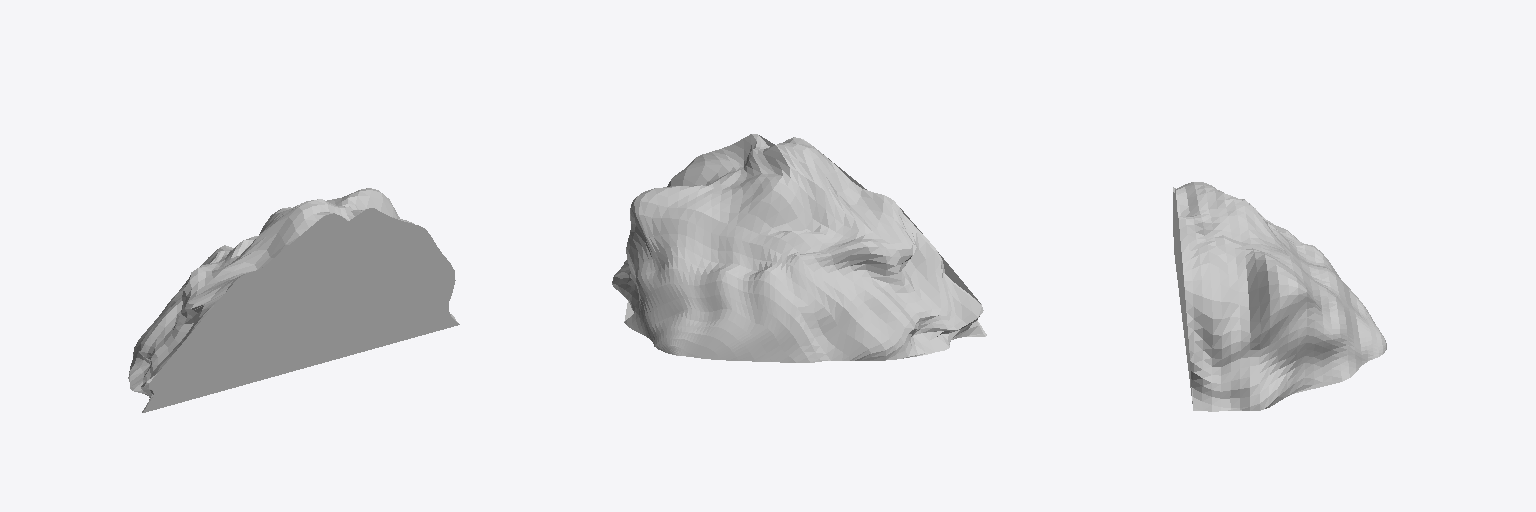
File: Asteroid2quad2.obj
3 views of the same model, side by side, from view 1: azimuth 30°, elevation 25°; view 2: azimuth 150°, elevation 25°; view 3: azimuth 270°, elevation 25° (orthographic).
Parts seen in each view (by area): view 1: asteroid2; view 2: asteroid2; view 3: asteroid2.
Part boxes in pixels (bbox=[...]): asteroid2: bbox=[128, 188, 459, 412]; asteroid2: bbox=[612, 134, 986, 362]; asteroid2: bbox=[1173, 182, 1386, 411].
Bounding box in the file's own units: 2.47 × 1.11 × 1.38.